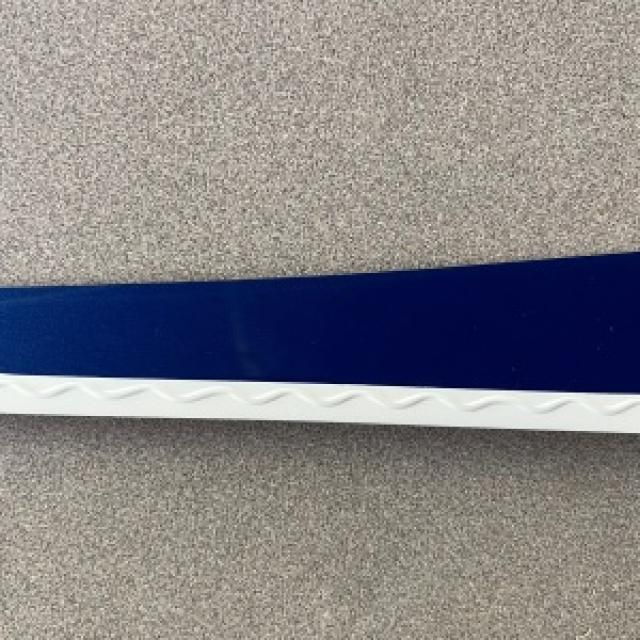healthy: (0, 0, 638, 429), (0, 250, 638, 429)
